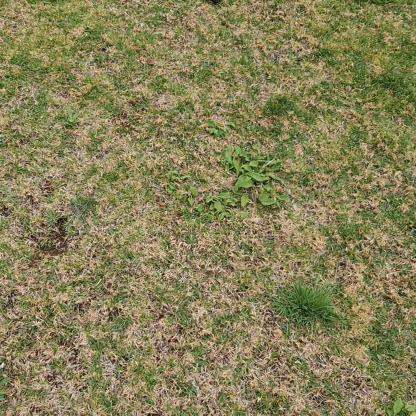Weeds: (167, 145, 290, 227), (385, 398, 415, 415), (207, 121, 228, 139), (66, 107, 80, 127), (45, 211, 59, 228)
